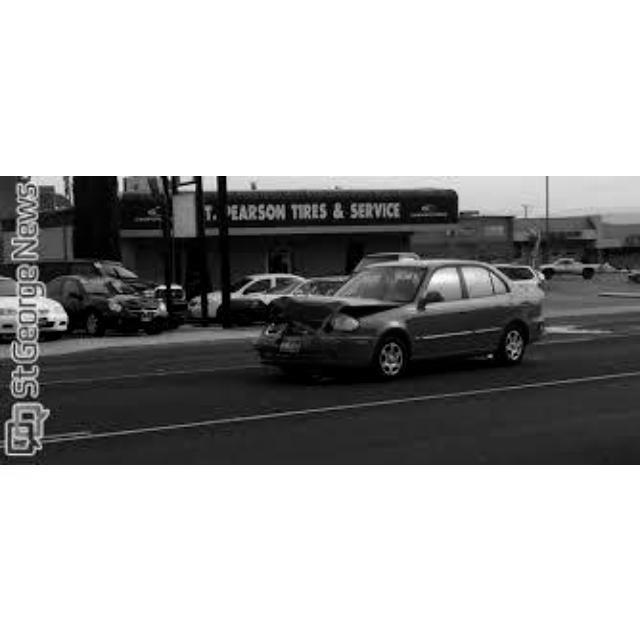bonnet-dent: (277, 284, 378, 328)
front-bumper-dent: (259, 328, 349, 368)
